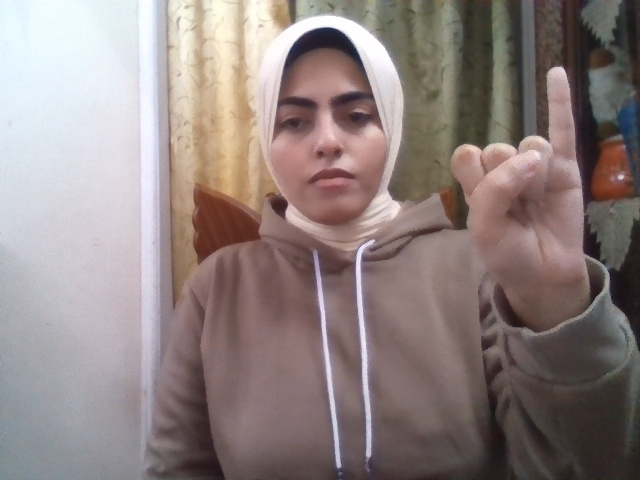I: (450, 67, 584, 303)
